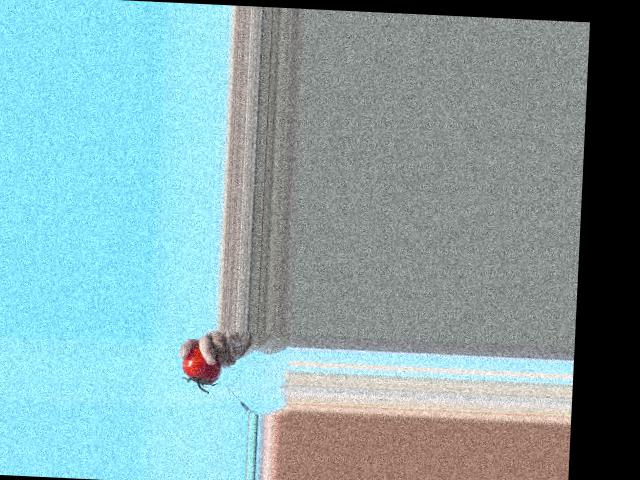tomato: (180, 344, 221, 384)
